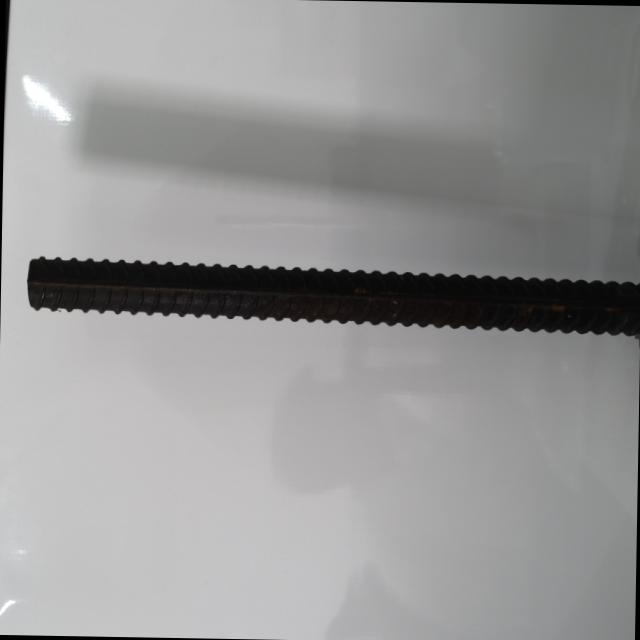ribbed bar: (22, 252, 640, 343)
